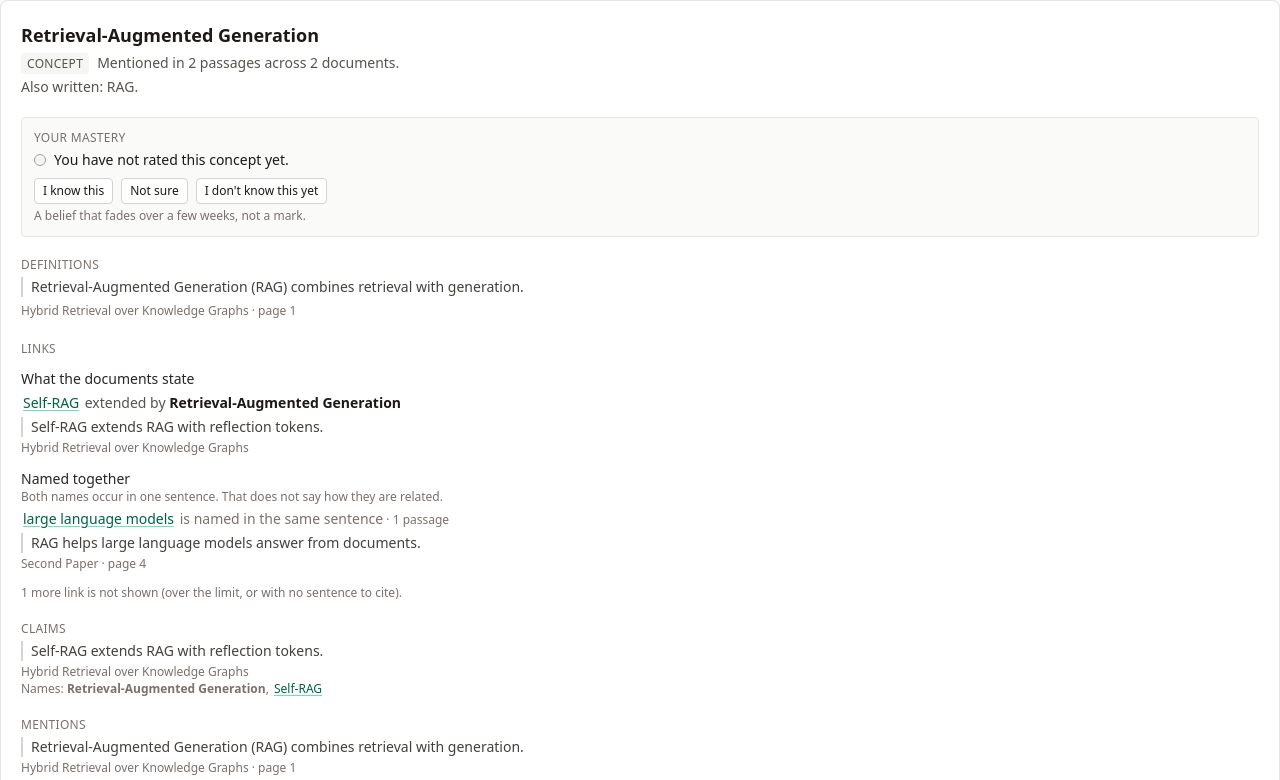
Test case: ConceptPage: the learner's mastery › says so, as an alert, when a rating could not be saved
Click the button "I know this" at (74, 191), box [34,178,113,204]
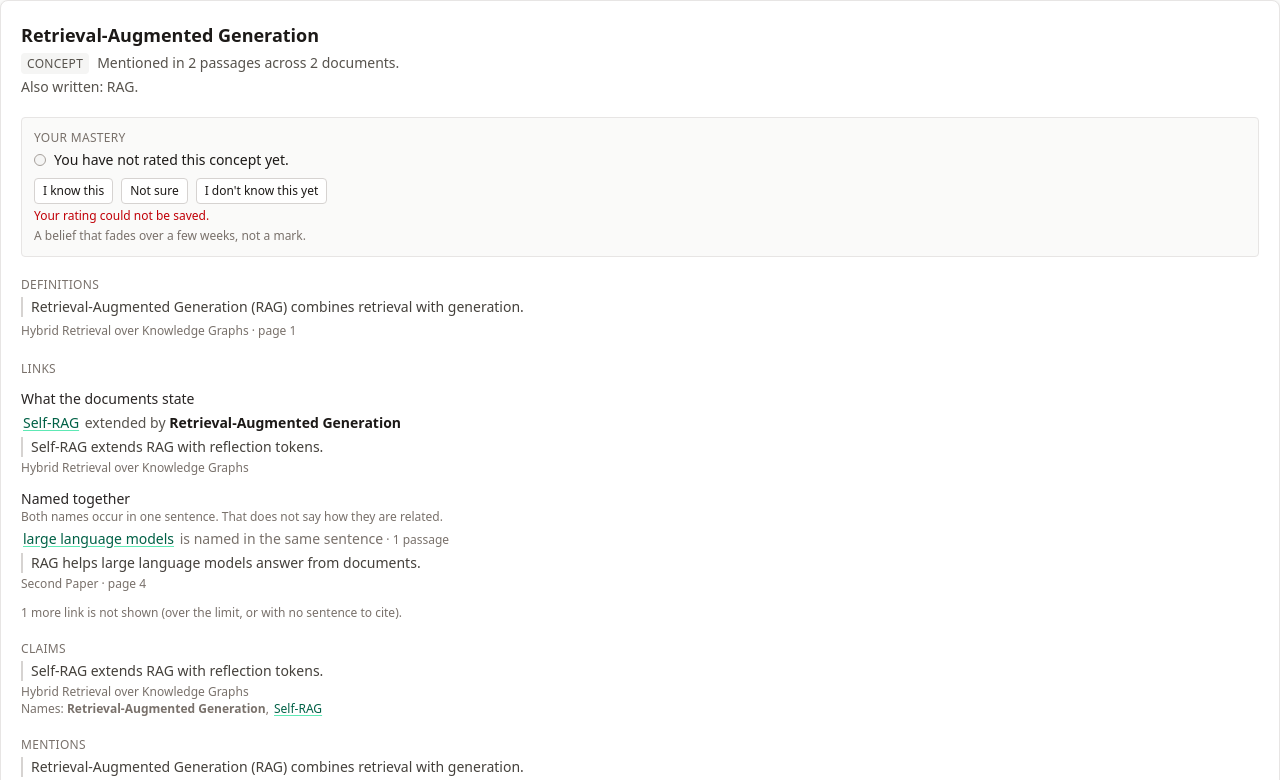
expect the message "Your rating could not be saved." is shown: met, box [34,207,209,224]
